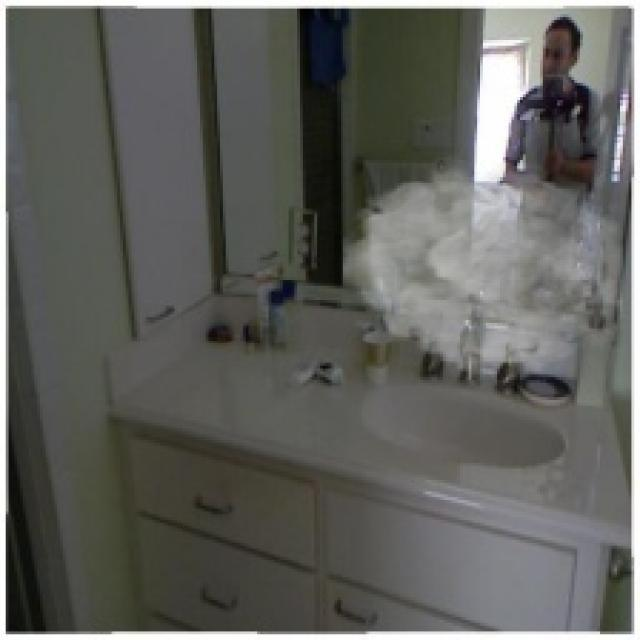Smoke: (343, 154, 623, 386)
